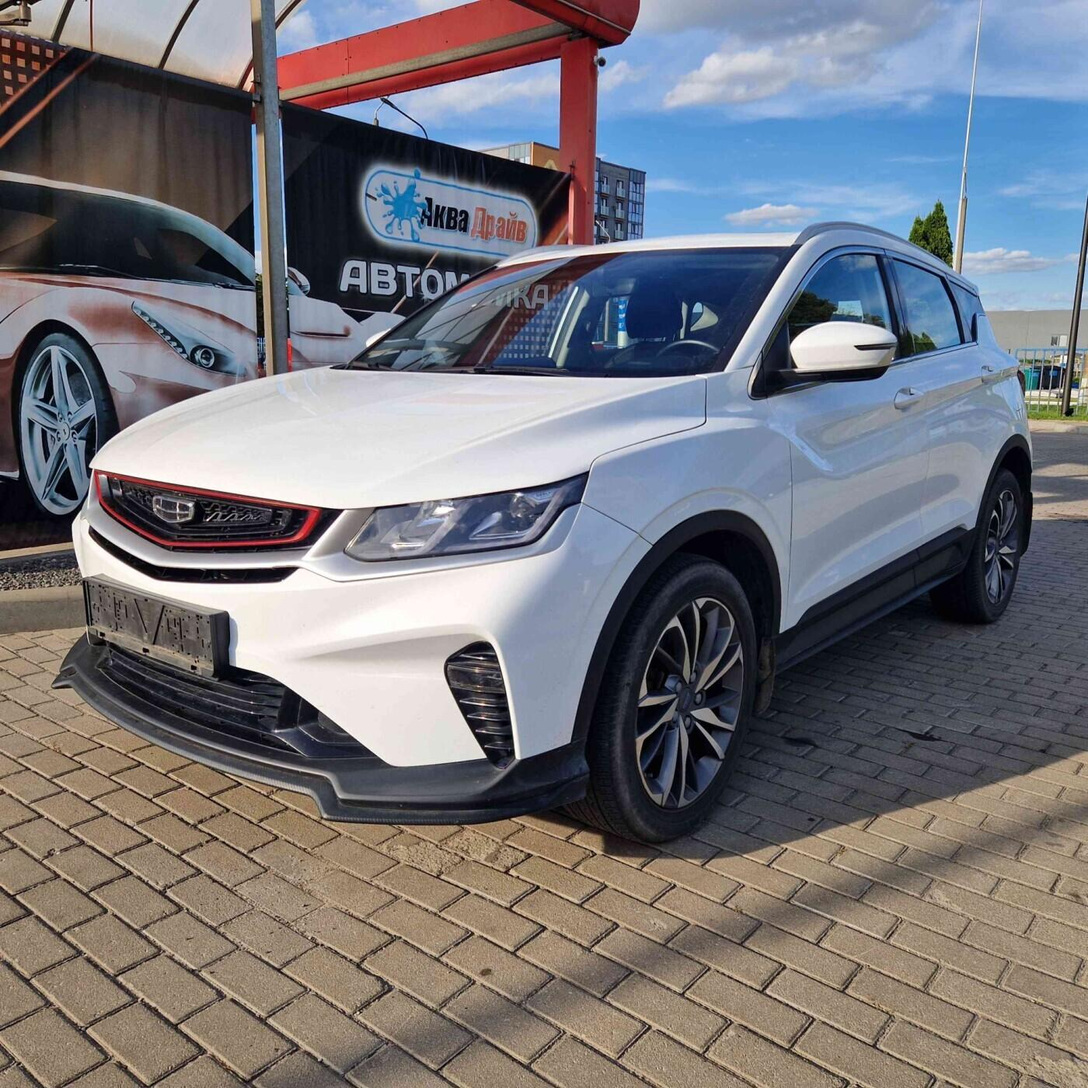Coolray_2019-2023: (53, 208, 1044, 844)
